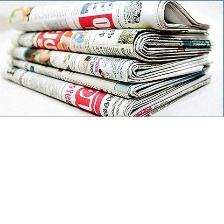news_paper: (0, 0, 224, 116)
